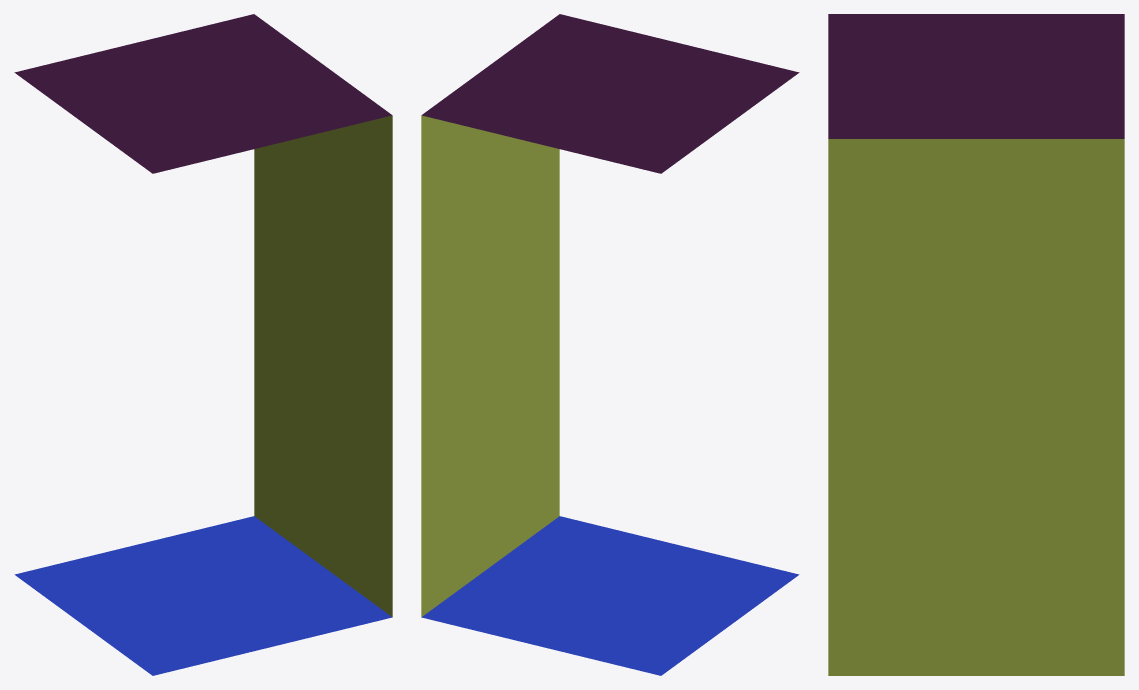
The model's file is ModuleSC_D_side_02.FBX.
3 views of the same model, side by side, from view 1: azimuth 30°, elevation 25°; view 2: azimuth 150°, elevation 25°; view 3: azimuth 270°, elevation 25° (orthographic). The views are drawn at different scales.
Parts seen in each view (by area): view 1: ModuleSc_B_wall_08, ModuleSC_B_floor_0904, ModuleSc_B_roof_06; view 2: ModuleSc_B_wall_08, ModuleSC_B_floor_0904, ModuleSc_B_roof_06; view 3: ModuleSc_B_wall_08, ModuleSc_B_roof_06.
Boxes of the visible parts, left/top/right/bottom form: ModuleSc_B_wall_08: left=254, top=115, right=392, bottom=616; ModuleSC_B_floor_0904: left=14, top=516, right=392, bottom=675; ModuleSc_B_roof_06: left=14, top=14, right=392, bottom=173; ModuleSc_B_wall_08: left=421, top=115, right=559, bottom=616; ModuleSC_B_floor_0904: left=421, top=516, right=799, bottom=675; ModuleSc_B_roof_06: left=421, top=14, right=799, bottom=173; ModuleSc_B_wall_08: left=828, top=139, right=1124, bottom=675; ModuleSc_B_roof_06: left=828, top=14, right=1124, bottom=138.
Size of the model in its own units: 39.37 by 78.74 by 39.37.
